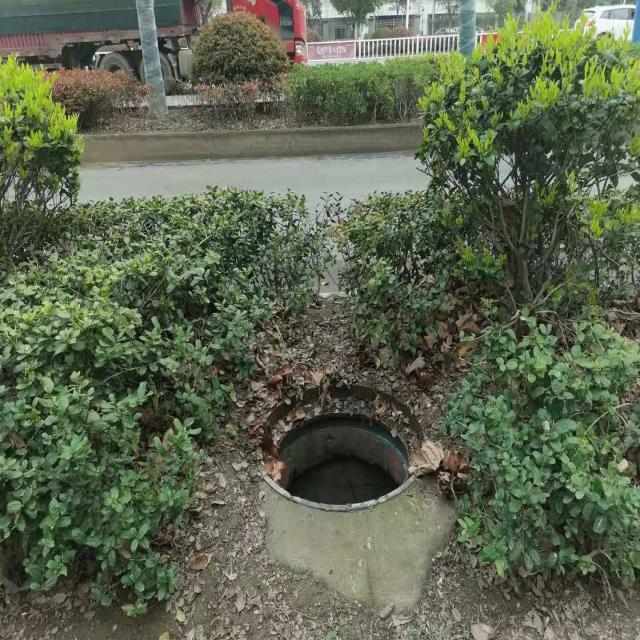Uncovered: (258, 379, 422, 510)
